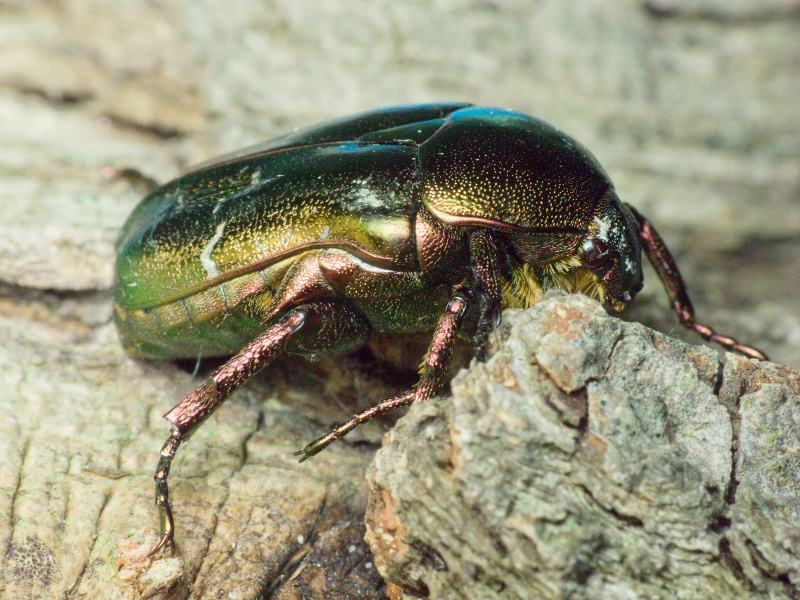Protaetia_fieberi: (111, 93, 774, 552)
